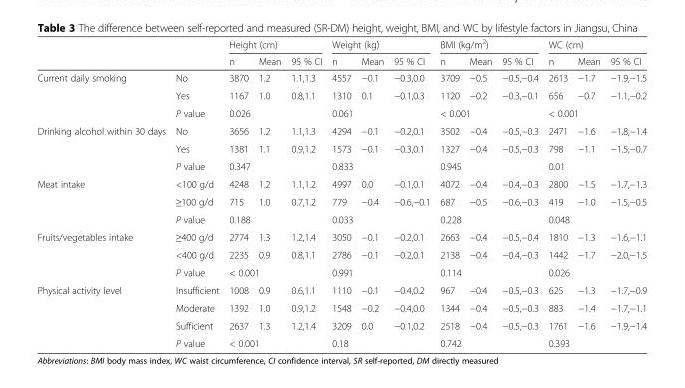table: (36, 36, 646, 348)
table column: (36, 36, 170, 348), (170, 36, 223, 348), (388, 36, 434, 348), (496, 36, 542, 348), (604, 36, 646, 348), (285, 36, 326, 348), (252, 36, 285, 348), (355, 36, 388, 348), (463, 36, 496, 348), (572, 36, 604, 348), (542, 36, 572, 348), (223, 36, 252, 348), (326, 36, 355, 348), (434, 36, 463, 348)
table column header: (36, 36, 646, 68)
table row: (36, 191, 646, 210), (36, 68, 646, 86), (36, 86, 646, 104), (36, 121, 646, 139), (36, 139, 646, 157), (36, 227, 646, 245), (36, 245, 646, 263), (36, 280, 646, 298), (36, 298, 646, 316), (36, 316, 646, 334), (36, 104, 646, 121), (36, 157, 646, 174), (36, 174, 646, 191), (36, 210, 646, 227), (36, 263, 646, 280), (36, 36, 646, 52), (36, 52, 646, 68), (36, 334, 646, 348)
table spanning cell: (36, 280, 170, 348), (36, 68, 170, 121), (36, 121, 170, 174), (36, 174, 170, 227), (36, 227, 170, 280), (326, 104, 434, 121), (434, 104, 542, 121), (326, 157, 434, 174), (434, 157, 542, 174), (326, 210, 434, 227), (434, 210, 542, 227), (326, 263, 434, 280), (434, 263, 542, 280), (542, 104, 646, 121), (542, 157, 646, 174), (542, 210, 646, 227), (542, 263, 646, 280), (223, 104, 326, 121), (223, 157, 326, 174), (223, 210, 326, 227), (223, 263, 326, 280), (326, 36, 434, 52), (434, 36, 542, 52), (542, 36, 646, 52), (223, 36, 326, 52), (326, 334, 434, 348), (434, 334, 542, 348), (542, 334, 646, 348), (223, 334, 326, 348)
